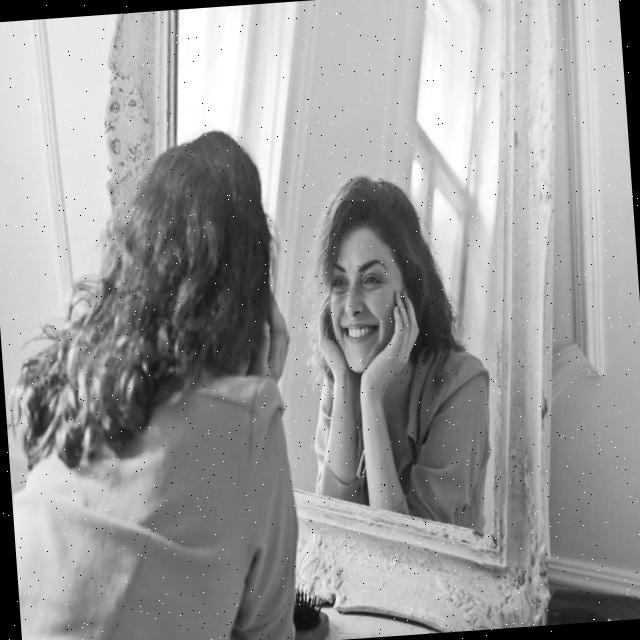Happiness: (314, 219, 410, 380)
